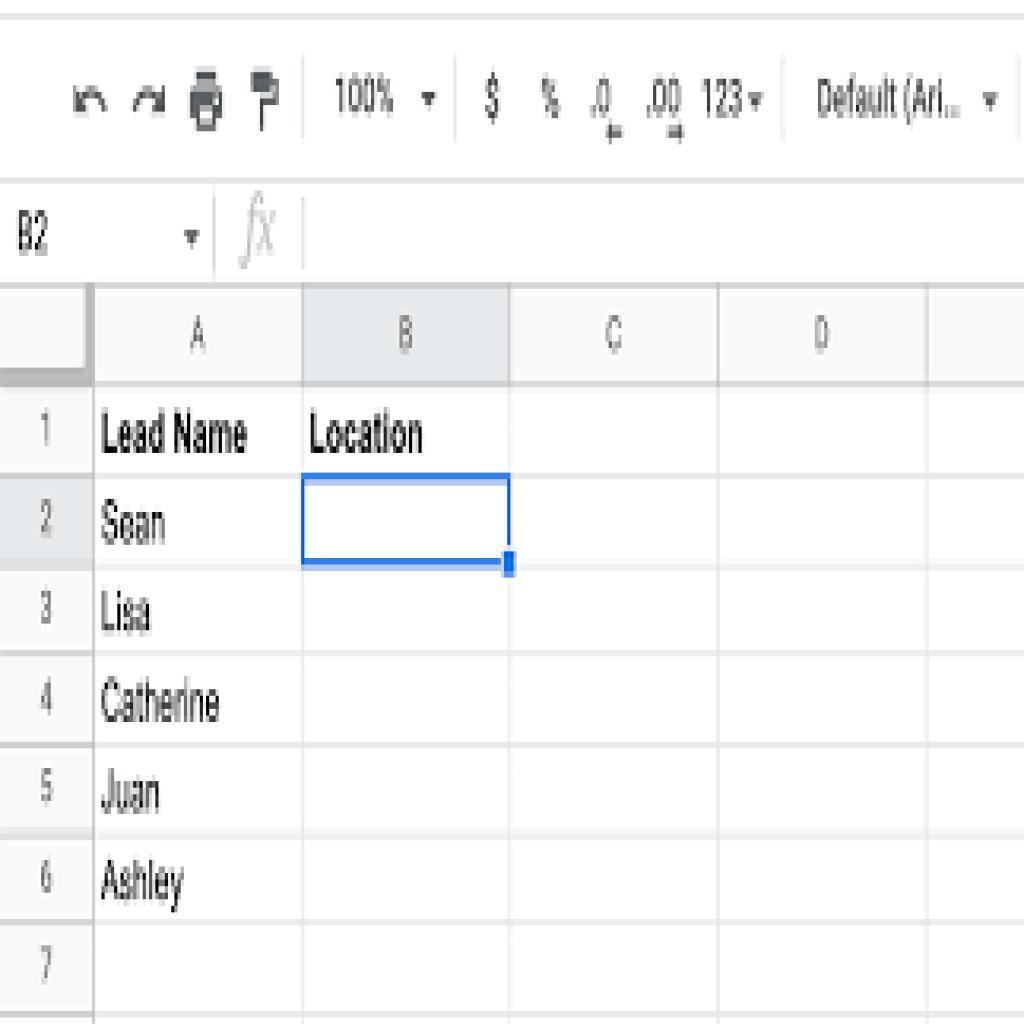table: (1, 284, 1024, 1017)
